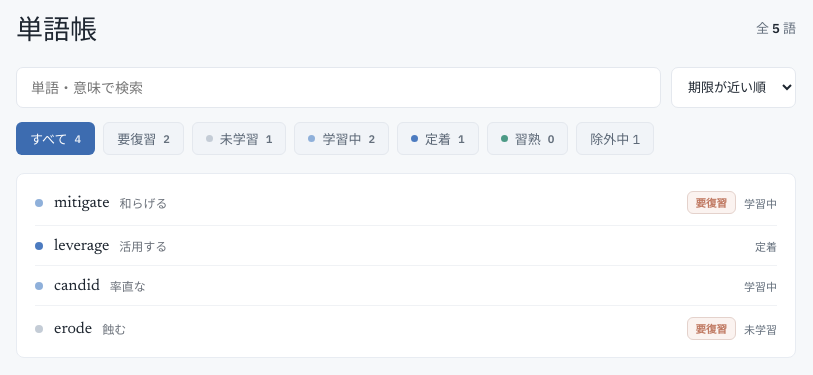
Test: <WordbookScreen/> › keeps suspended words out of the default view and lists them under「除外中」(C-5d)
Expected: the button with test id "word-row-mitigate" is shown, [35,180,777,225]
// The「除外中」filter shows only suspended words.
Click the button with test id "filter-suspended" at (615, 138), box [576,122,654,155]
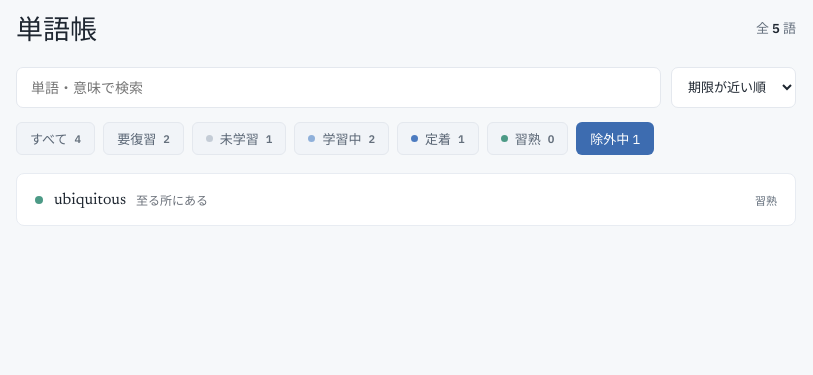
Now the button with test id "word-row-ubiquitous" is shown, box [35,180,777,219]
Now the button with test id "word-row-mitigate" is gone
